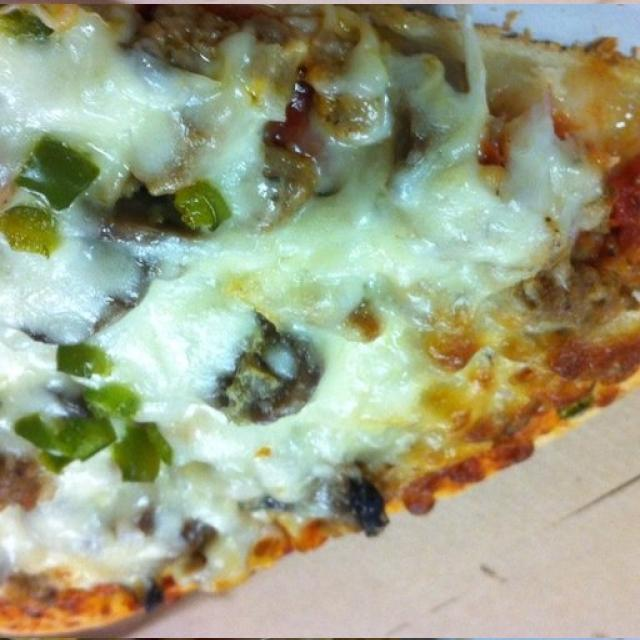pizza: (0, 4, 640, 638)
